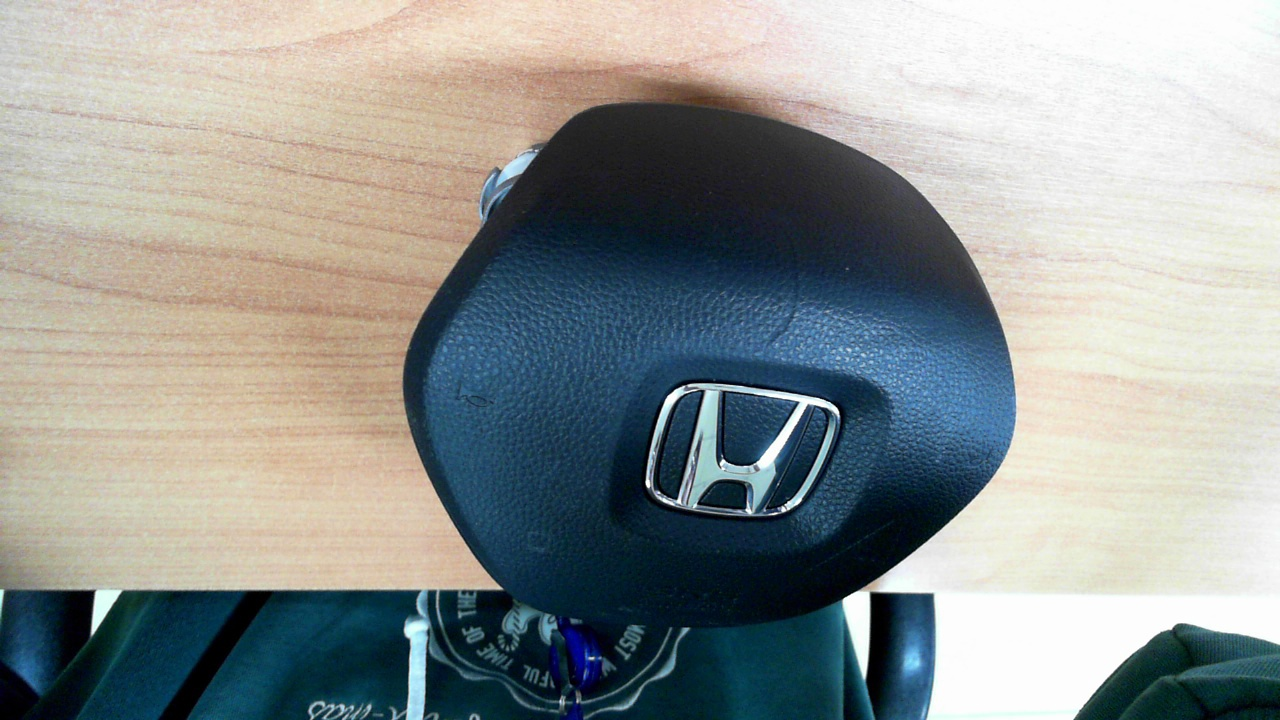Airbag: (395, 105, 1016, 631)
Honda: (644, 382, 841, 517)
